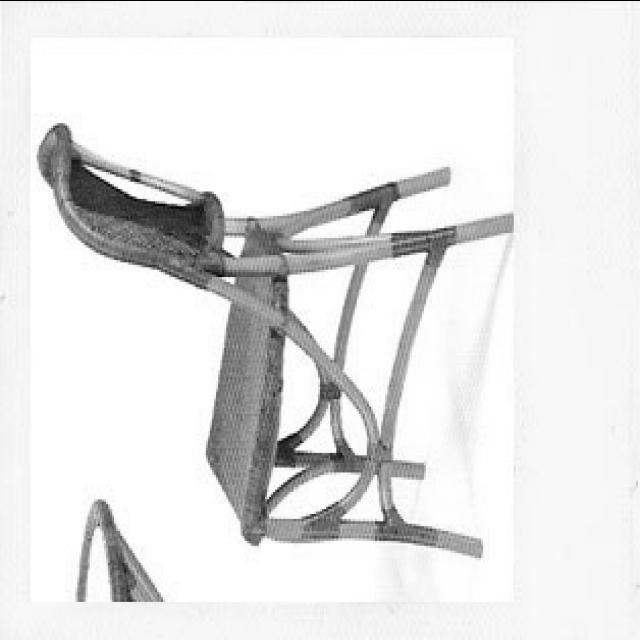chair: (37, 122, 515, 560)
